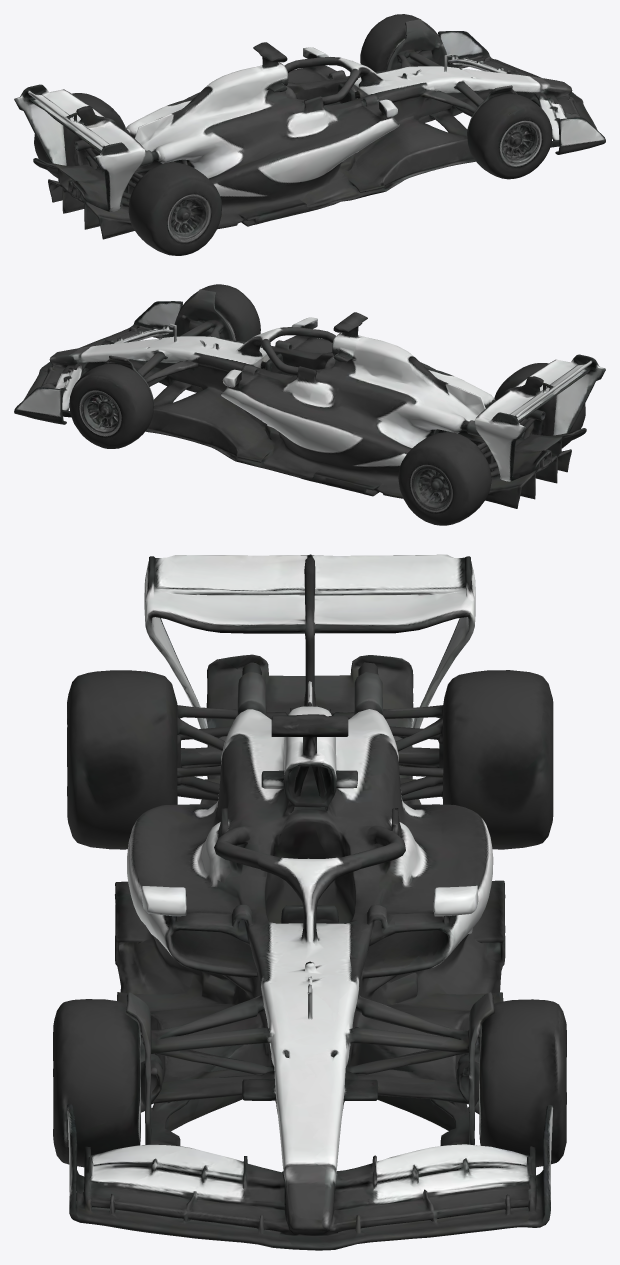
The model's file is scorchquill.glb.
The picture shows the model from 3 angles, top to bottom: view 1: azimuth 30°, elevation 25°; view 2: azimuth 150°, elevation 25°; view 3: azimuth 270°, elevation 25°; orthographic projection. The views are drawn at different scales.
Visible parts, largest first — view 1: tripo_node_52d52d54-dfdf-4770-820b-d4920155a9f8; view 2: tripo_node_52d52d54-dfdf-4770-820b-d4920155a9f8; view 3: tripo_node_52d52d54-dfdf-4770-820b-d4920155a9f8.
Part boxes in pixels (x1,y1,x2,y2): tripo_node_52d52d54-dfdf-4770-820b-d4920155a9f8: (14,14,605,255); tripo_node_52d52d54-dfdf-4770-820b-d4920155a9f8: (14,284,605,525); tripo_node_52d52d54-dfdf-4770-820b-d4920155a9f8: (53,554,566,1250).
Bounding box in the file's own units: 1 × 0.2427 × 0.4297.
Materials: 1 (1 with a texture image).
